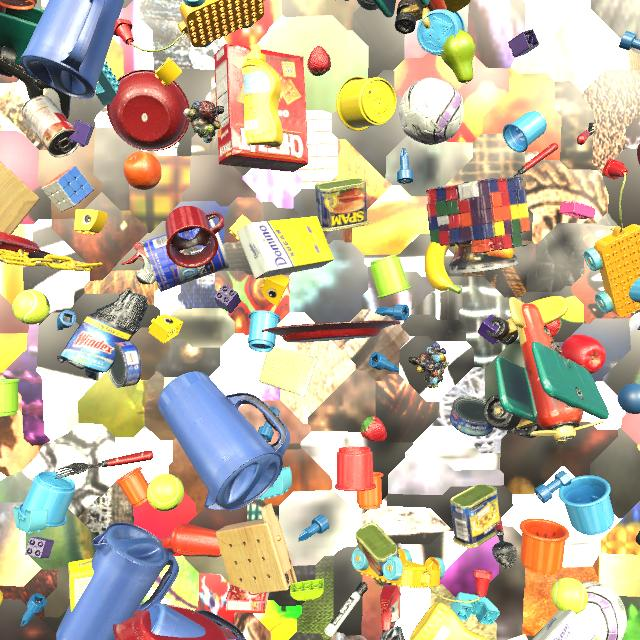ycb_002_master_chef_can: (142, 219, 229, 292), (263, 0, 266, 1)
ycb_003_cracker_box: (214, 44, 308, 172)
ycb_004_sugar_box: (237, 216, 334, 279), (532, 609, 599, 640), (68, 558, 94, 612)
ycb_005_tomato_soup_can: (21, 96, 79, 158)
ycb_006_mustard_bottle: (242, 44, 283, 148), (409, 601, 487, 640)
ycb_007_tuna_fish_can: (450, 396, 494, 437), (108, 341, 142, 388)
ycb_009_gelatin_box: (226, 585, 269, 614)
ycb_010_potted_meat_can: (450, 485, 500, 548), (315, 178, 369, 232), (356, 523, 400, 588)
ycb_011_banana: (424, 241, 462, 294)
ycb_012_strawberry: (307, 46, 331, 76), (360, 416, 386, 442), (547, 318, 562, 337)
ycb_013_apple: (561, 334, 606, 374)
ycb_014_lemon: (0, 590, 3, 605)
ycb_015_peach: (486, 247, 515, 258)
ycb_016_pear: (441, 29, 476, 84)
ycb_017_orange: (123, 151, 162, 190)
